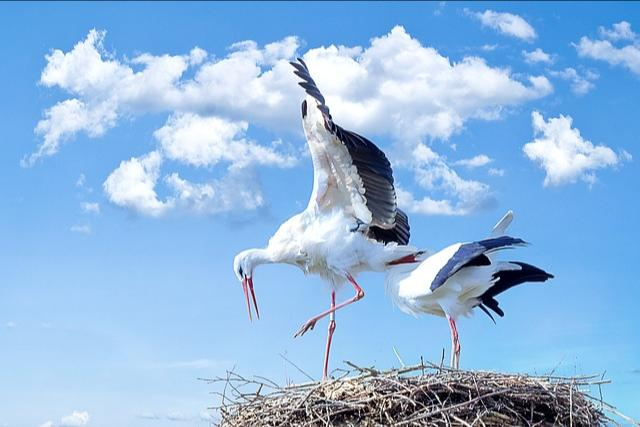Non_Gorille: (128, 26, 604, 388)
